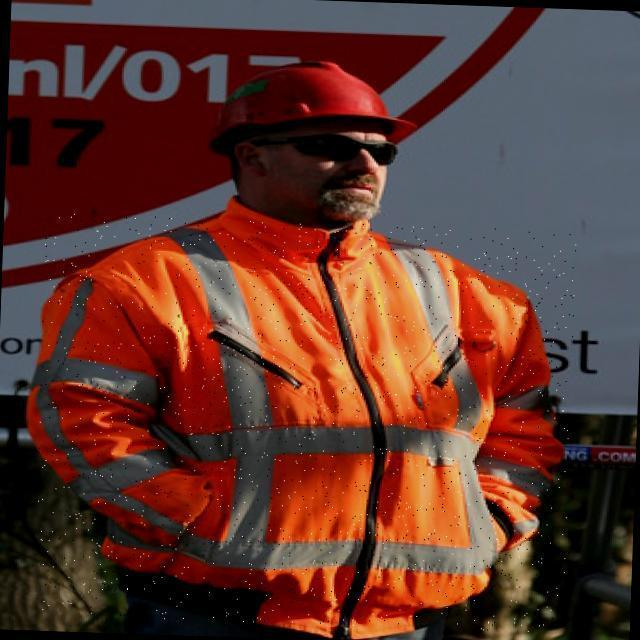helmet: (205, 43, 421, 159)
vest: (32, 213, 577, 633)
